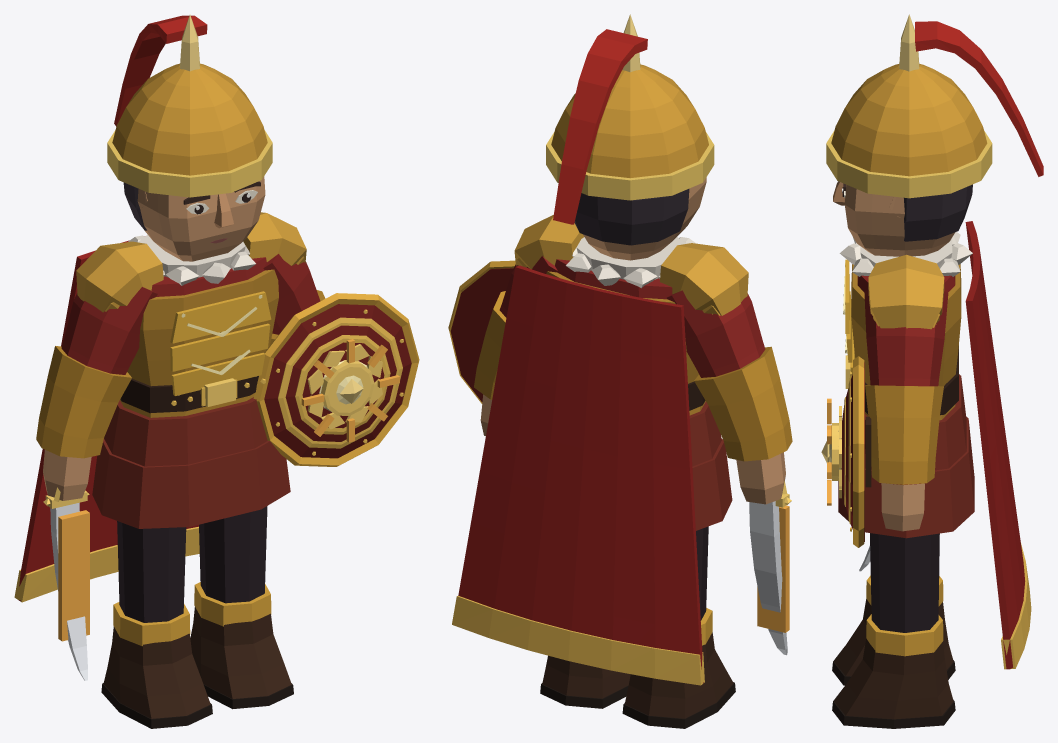
File: warrior-legendary.obj
3 views of the same model, side by side, from view 1: azimuth 30°, elevation 25°; view 2: azimuth 150°, elevation 25°; view 3: azimuth 270°, elevation 25° (orthographic).
Parts seen in each view (by area): view 1: kalca-plakalari, cizmeler, tolga, bacaklar, kalkan, kollar, gogus-plakalari, kol-zirhlari, omuz-plakalari, gogus-zirhi, kafa, kalkan-cercedeyi (+17 smaller); view 2: pelerin, tolga, kol-zirhlari, pelerin-kenari, omuz-plakalari, cizmeler, tolga-yelesi, kollar, sac, kalca-plakalari, tolga-bandi, kalkan (+10 smaller); view 3: tolga, pelerin, cizmeler, kol-zirhlari, kalca-plakalari, bacaklar, omuz-plakalari, kollar, tolga-bandi, kafa, tolga-yelesi, gogus-zirhi (+15 smaller).
Boxes of the visible parts, x1=… form: kalca-plakalari: x1=92, y1=397, x2=290, y2=528; cizmeler: x1=103, y1=607, x2=291, y2=718; tolga: x1=112, y1=63, x2=267, y2=175; bacaklar: x1=117, y1=506, x2=267, y2=622; kalkan: x1=264, y1=304, x2=411, y2=458; kollar: x1=61, y1=254, x2=320, y2=374; gogus-plakalari: x1=170, y1=291, x2=271, y2=395; kol-zirhlari: x1=36, y1=290, x2=325, y2=458; omuz-plakalari: x1=76, y1=212, x2=306, y2=312; gogus-zirhi: x1=120, y1=269, x2=278, y2=417; kafa: x1=137, y1=176, x2=265, y2=261; kalkan-cercedeyi: x1=253, y1=293, x2=419, y2=466; pelerin: x1=458, y1=265, x2=703, y2=683; tolga: x1=551, y1=64, x2=708, y2=178; kol-zirhlari: x1=474, y1=291, x2=792, y2=461; pelerin-kenari: x1=452, y1=595, x2=704, y2=685; omuz-plakalari: x1=514, y1=215, x2=748, y2=315; cizmeler: x1=542, y1=632, x2=733, y2=718; tolga-yelesi: x1=553, y1=29, x2=647, y2=224; kollar: x1=499, y1=256, x2=765, y2=377; sac: x1=574, y1=189, x2=689, y2=245; kalca-plakalari: x1=689, y1=402, x2=732, y2=530; tolga-bandi: x1=546, y1=132, x2=714, y2=200; kalkan: x1=450, y1=268, x2=513, y2=401; tolga: x1=831, y1=64, x2=987, y2=176; pelerin: x1=965, y1=221, x2=1025, y2=669; cizmeler: x1=834, y1=599, x2=953, y2=719; kol-zirhlari: x1=865, y1=385, x2=943, y2=484; kalca-plakalari: x1=838, y1=374, x2=974, y2=538; bacaklar: x1=870, y1=533, x2=939, y2=632; omuz-plakalari: x1=868, y1=254, x2=944, y2=329; kollar: x1=864, y1=290, x2=948, y2=485; tolga-bandi: x1=826, y1=130, x2=992, y2=198; kafa: x1=844, y1=184, x2=954, y2=256; tolga-yelesi: x1=915, y1=21, x2=1043, y2=176; gogus-zirhi: x1=851, y1=264, x2=961, y2=420.
Size of the model in its own units: 26.3 by 47.6 by 14.17.
